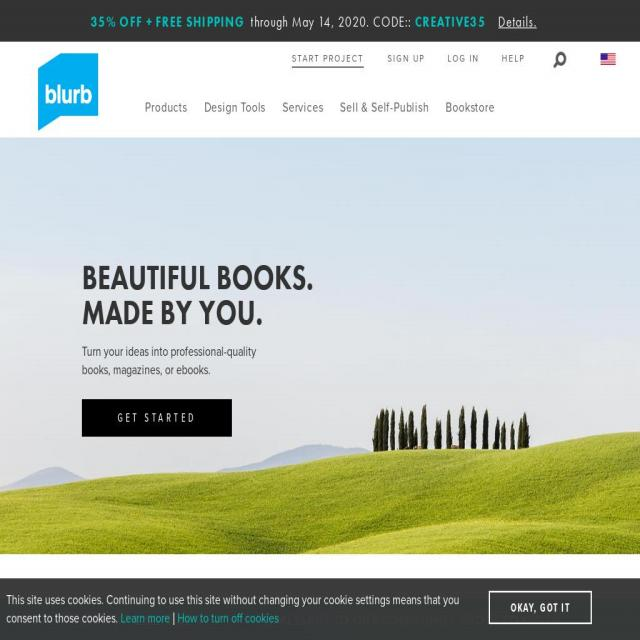language: (595, 48, 620, 74)
login-option: (437, 45, 485, 73)
navigation-links: (140, 90, 502, 130), (285, 42, 533, 72)
search: (548, 48, 568, 75)
sign-up-option: (380, 52, 432, 70)
